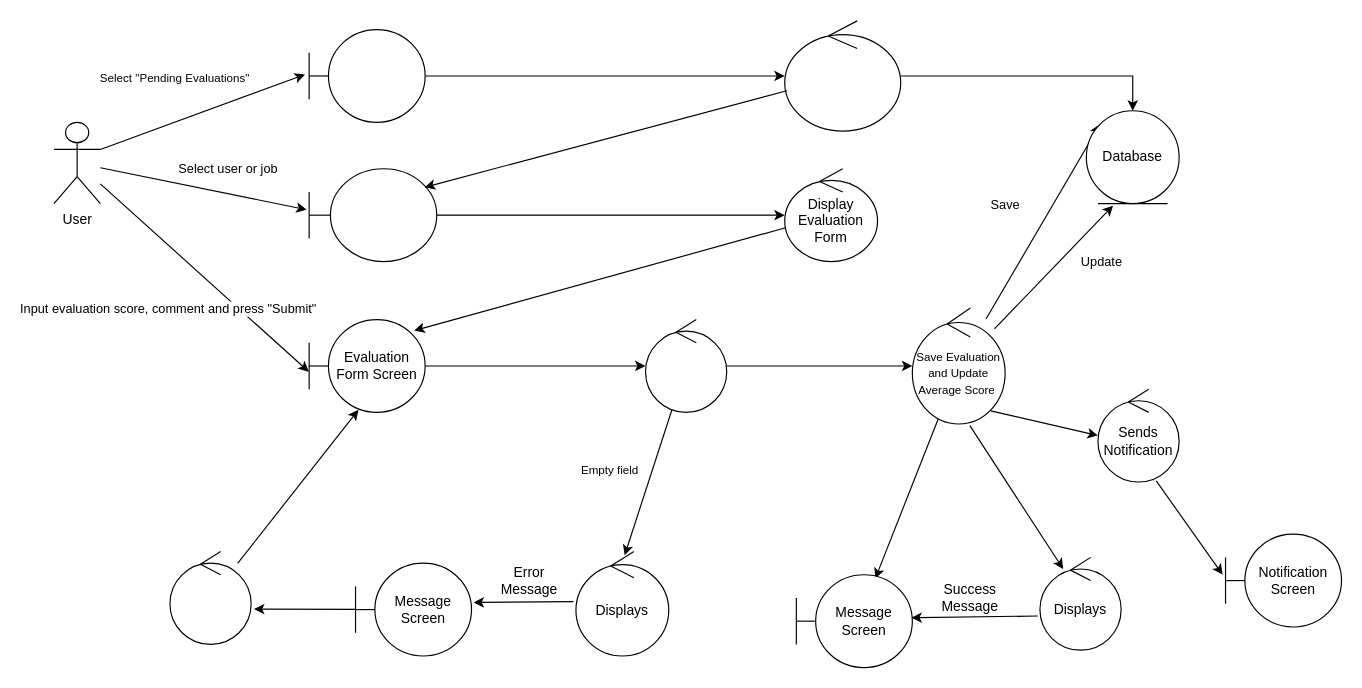
The diagram is 1362 pixels wide and 688 high, and some of its shapes have lost their labels. Each missing label, with the box of its shape:
Close Message: (169, 550, 251, 644)
Fetch Completed Jobs: (784, 20, 901, 131)
Main Menu Screen: (308, 28, 425, 122)
Pending Evaluations Screen: (308, 168, 437, 262)
Submission Check: (644, 318, 727, 412)
